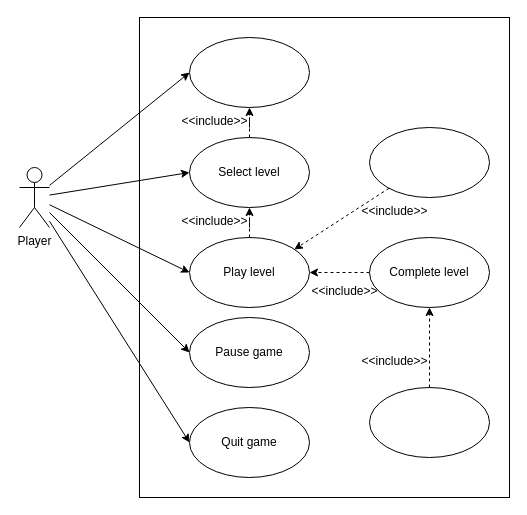
Image size: 527x515. Some labels were removed from this diagram. The centre of each missing label's shape, as x and y in pixels:
Control character: pixel 429 162
Go to next level: pixel 429 422
Start game: pixel 249 72
